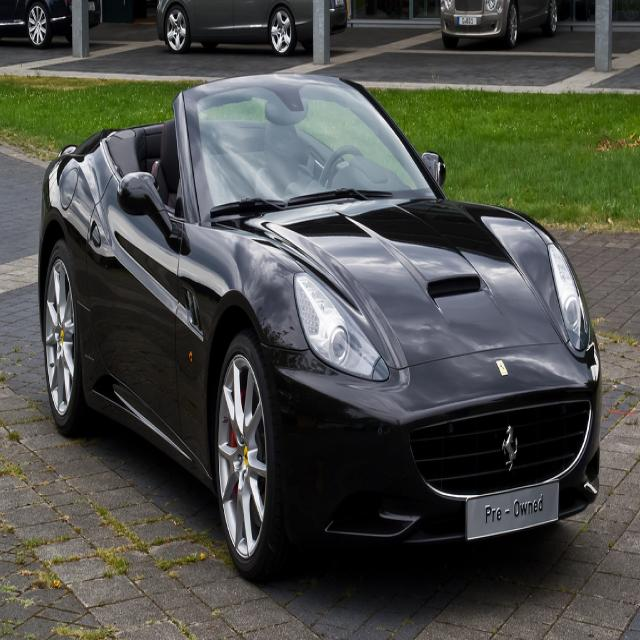car: (35, 68, 601, 584)
